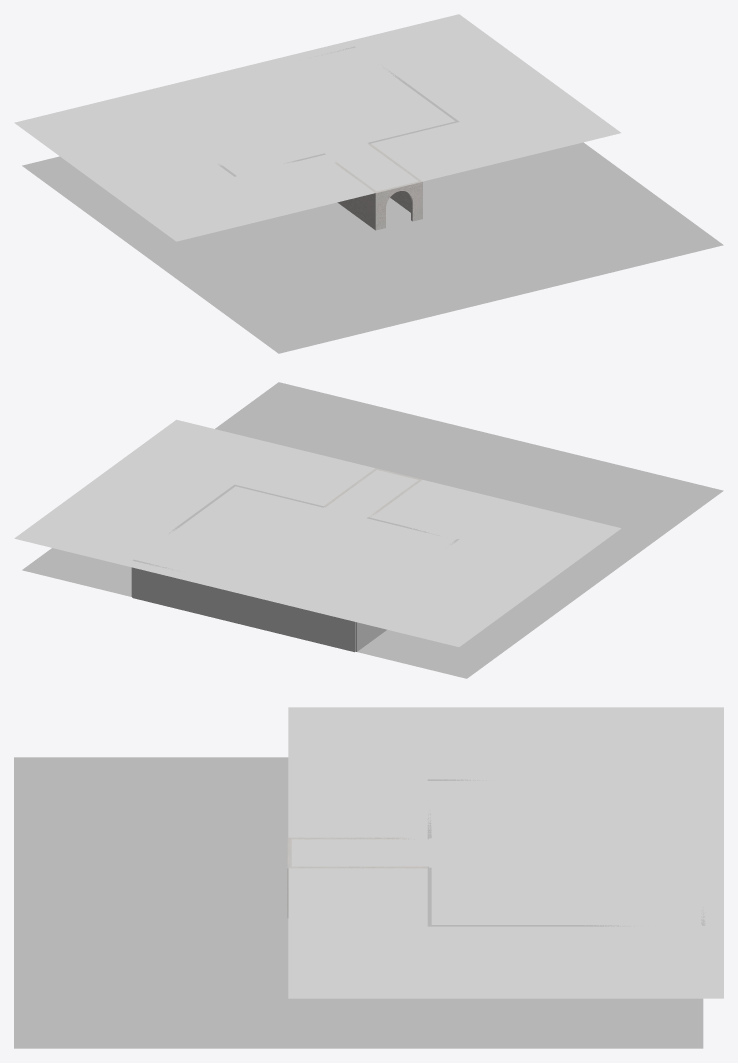
Rendered from Map1.fbx.
The picture shows the model from 3 angles, top to bottom: view 1: azimuth 30°, elevation 25°; view 2: azimuth 150°, elevation 25°; view 3: azimuth 270°, elevation 25°; orthographic projection. The views are drawn at different scales.
Parts seen in each view (by area): view 1: Plan.001, Plan, Porte, Cube.002; view 2: Plan.001, Plan, Cube.007, Cube; view 3: Plan.001, Plan.
Boxes of the visible parts, x1=… form: Plan.001: x1=14, y1=14, x2=620, y2=241; Plan: x1=22, y1=142, x2=723, y2=353; Porte: x1=374, y1=181, x2=422, y2=230; Cube.002: x1=334, y1=161, x2=376, y2=228; Plan.001: x1=14, y1=419, x2=620, y2=646; Plan: x1=22, y1=382, x2=723, y2=678; Cube.007: x1=132, y1=559, x2=355, y2=652; Cube: x1=355, y1=539, x2=459, y2=651; Plan.001: x1=288, y1=707, x2=723, y2=998; Plan: x1=14, y1=757, x2=703, y2=1048.
Size of the model in its own units: 10000 by 914 by 10300.
